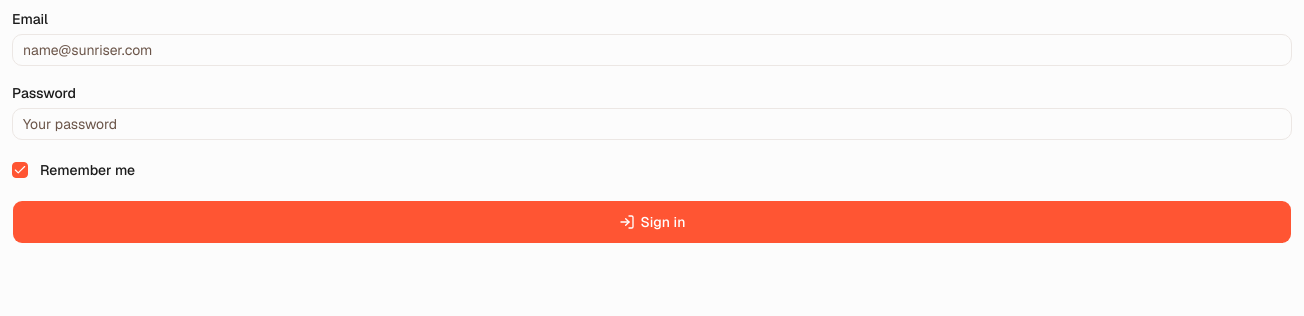
LoginForm › shows an error for invalid credentials
Type "wrong@sunriser.com" into the field labelled "Email".
click(652, 50); type("wrong@sunriser.com")  # box [12,34,1292,66]
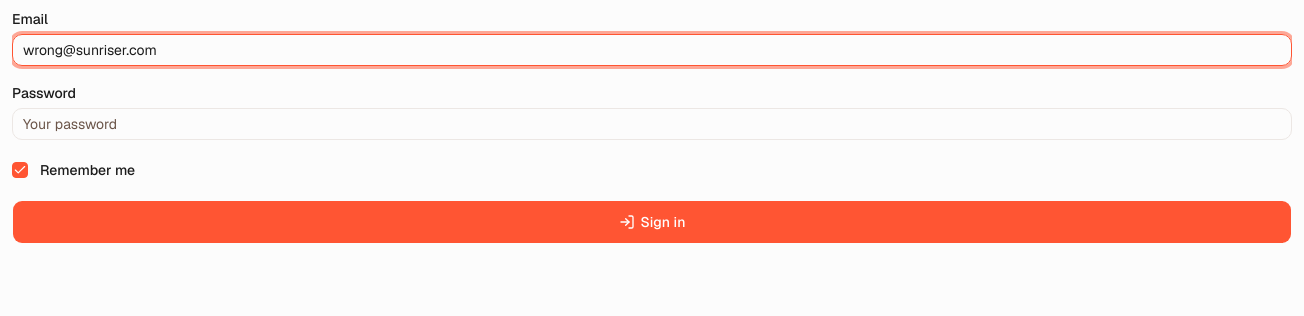
Type "nope" into the password field labelled "Password".
click(652, 124); type("nope")  # box [12,108,1292,140]
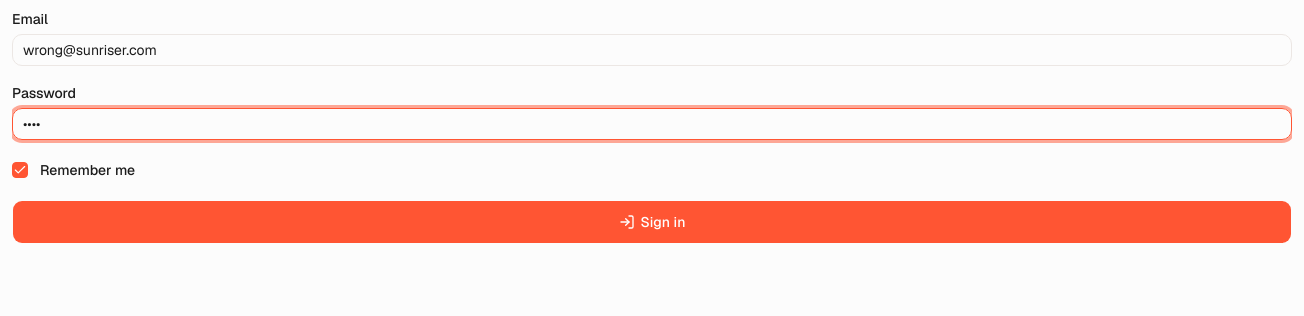
Click the button "Sign in".
click(652, 222)  # box [12,200,1292,244]
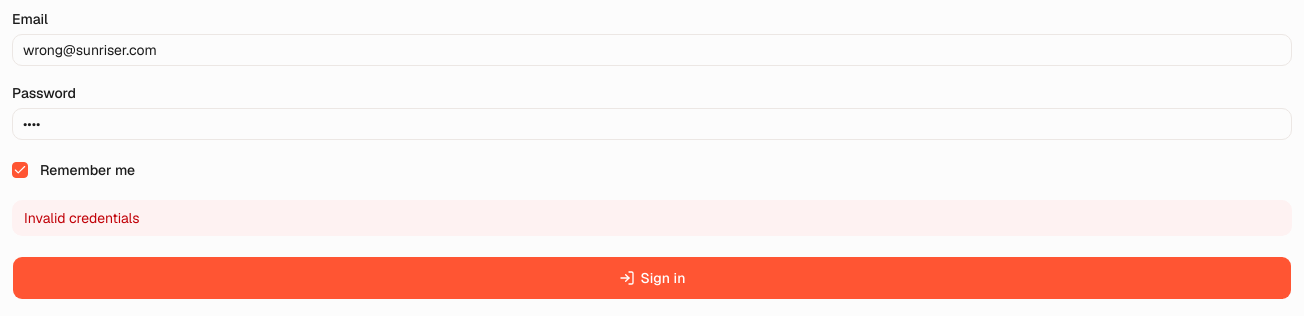
expect the message reads "Invalid credentials": met, box [24,209,140,227]
